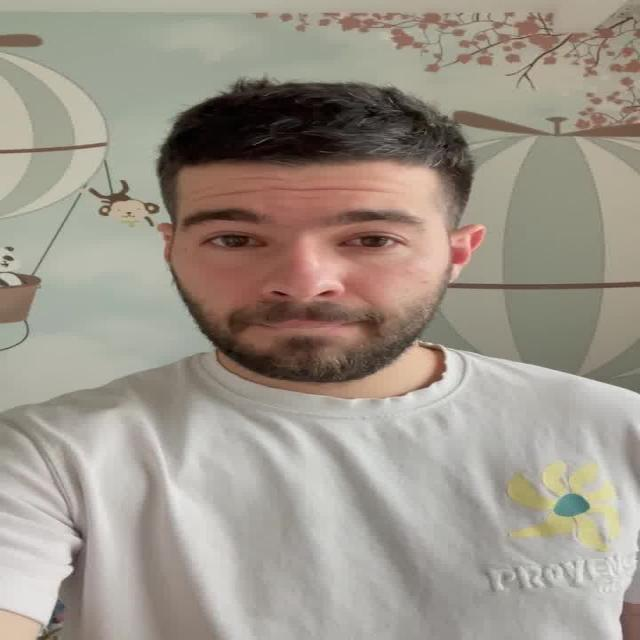earlobe: (448, 224, 486, 283), (154, 222, 178, 264)
